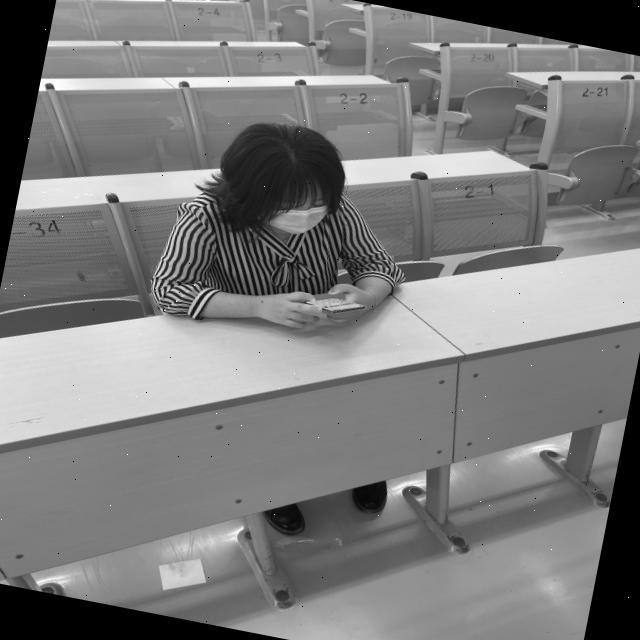phone: (144, 104, 429, 359)
